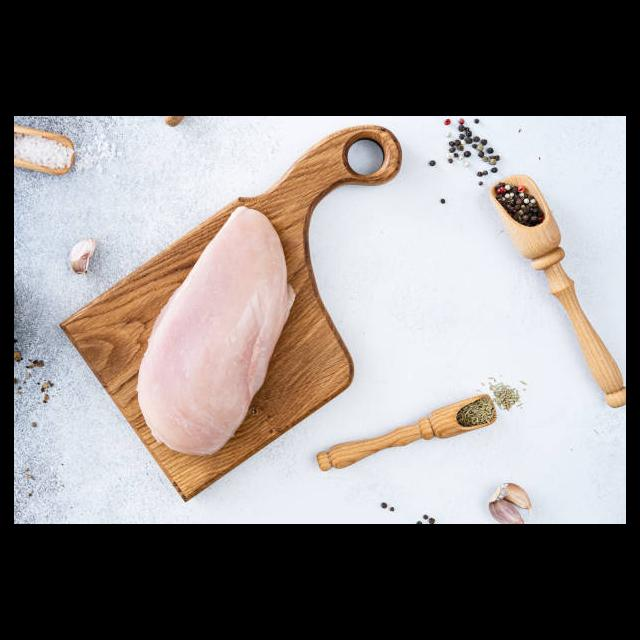chicken: (136, 207, 296, 454)
